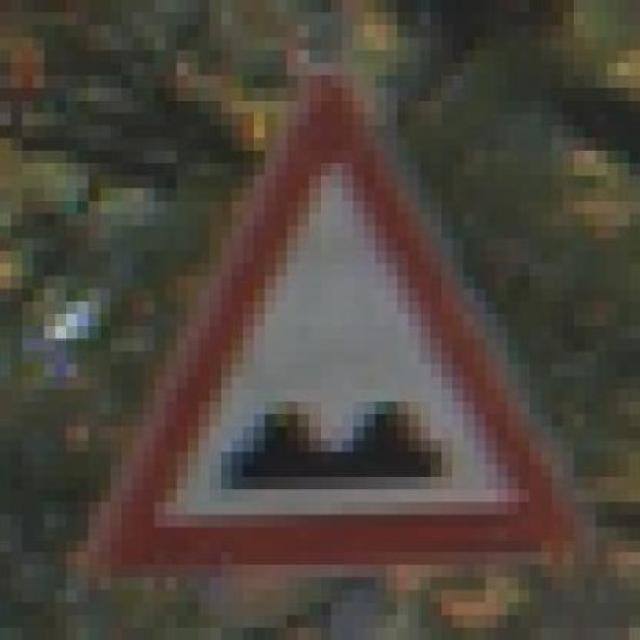Uneven Road: (77, 38, 585, 565)
